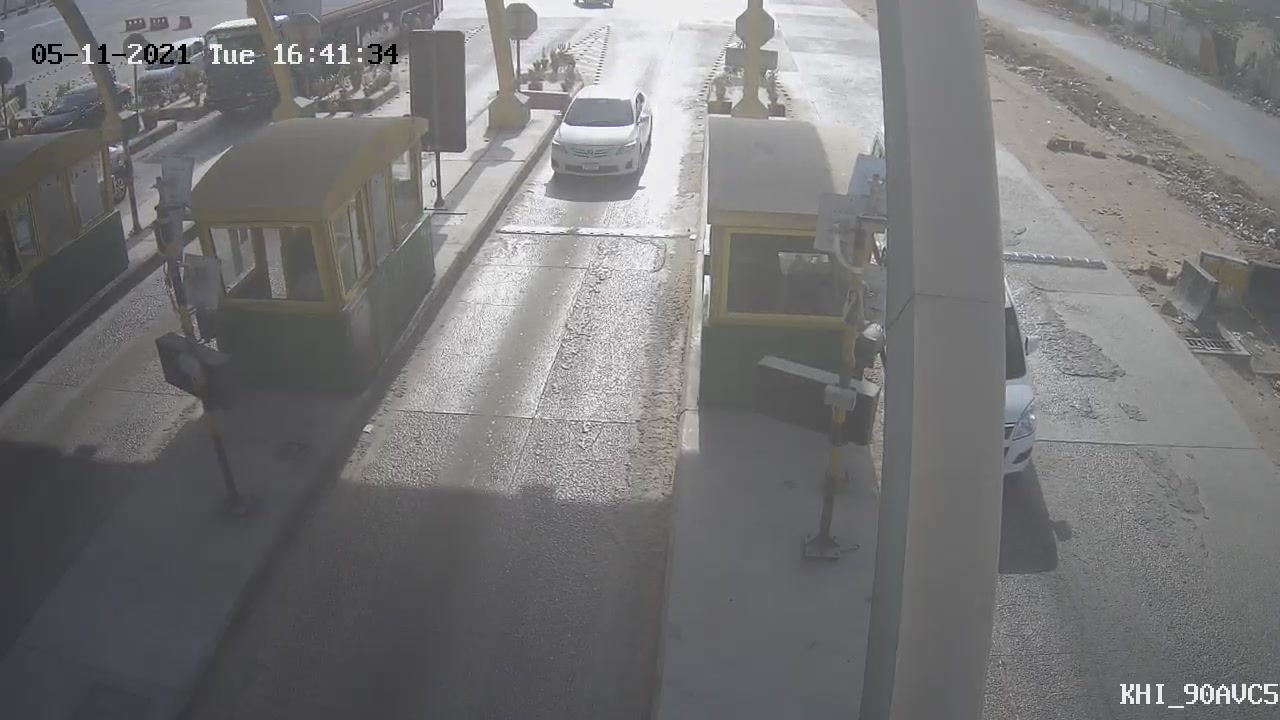F1: (535, 74, 664, 200)
